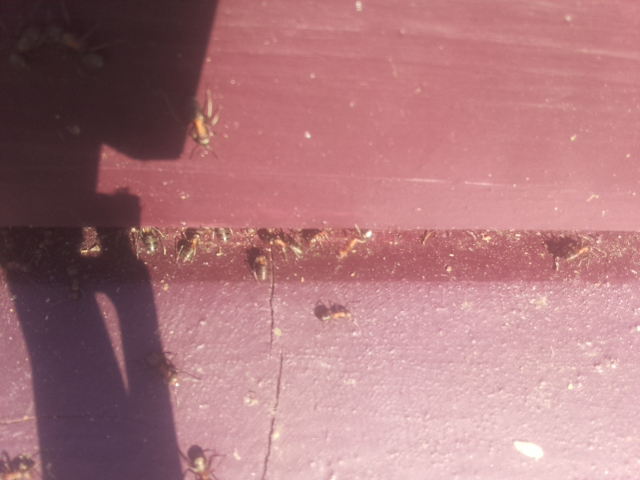ant: (34, 7, 107, 77), (179, 88, 226, 156), (141, 347, 186, 399), (178, 439, 224, 480), (330, 224, 378, 262), (311, 298, 355, 324), (177, 227, 201, 269), (249, 245, 271, 282)
